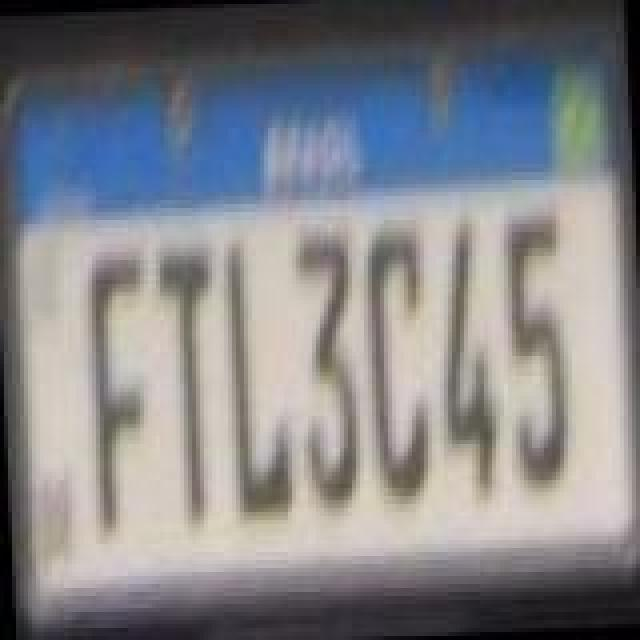3: (292, 226, 364, 510)
4: (432, 224, 496, 496)
5: (500, 210, 572, 494)
C: (358, 226, 434, 510)
F: (84, 248, 156, 536)
L: (222, 238, 298, 522)
T: (156, 242, 228, 526)
